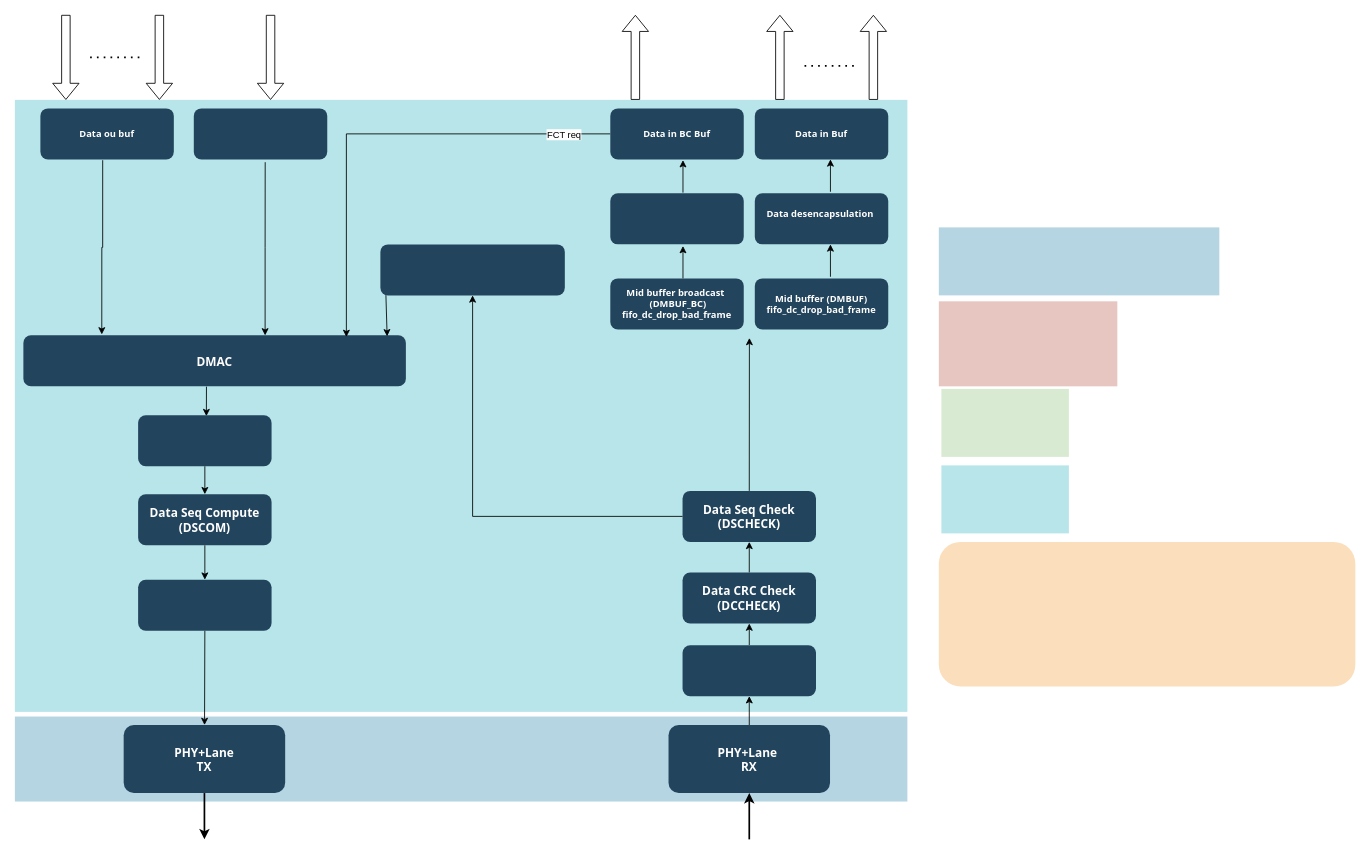
This 1369x861 diagram has some shape labels left out. Each missing label, with the centre of its shape:
Data CRC compute (DCCOM): point (204, 604)
Data desencapsulation BC: point (676, 218)
Data encapsulation (DENC): point (204, 440)
Data error mgt (DERRM): point (472, 269)
Data out BC Buf: point (260, 133)
Data word ID (DWI): point (749, 670)
